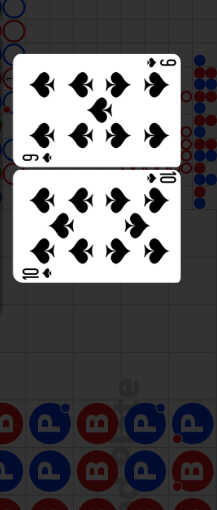10S: (21, 266, 54, 280)
9S: (144, 56, 177, 69)
